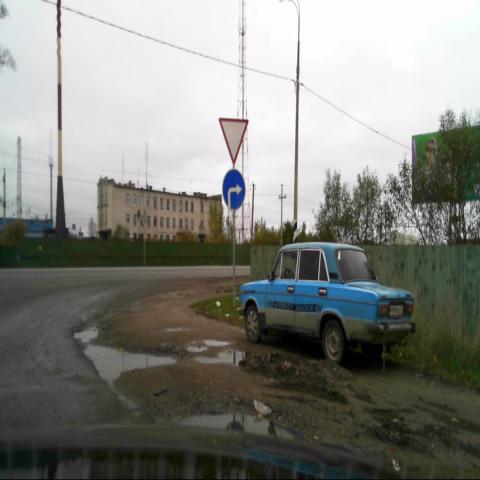4_1_2: (222, 169, 245, 209)
